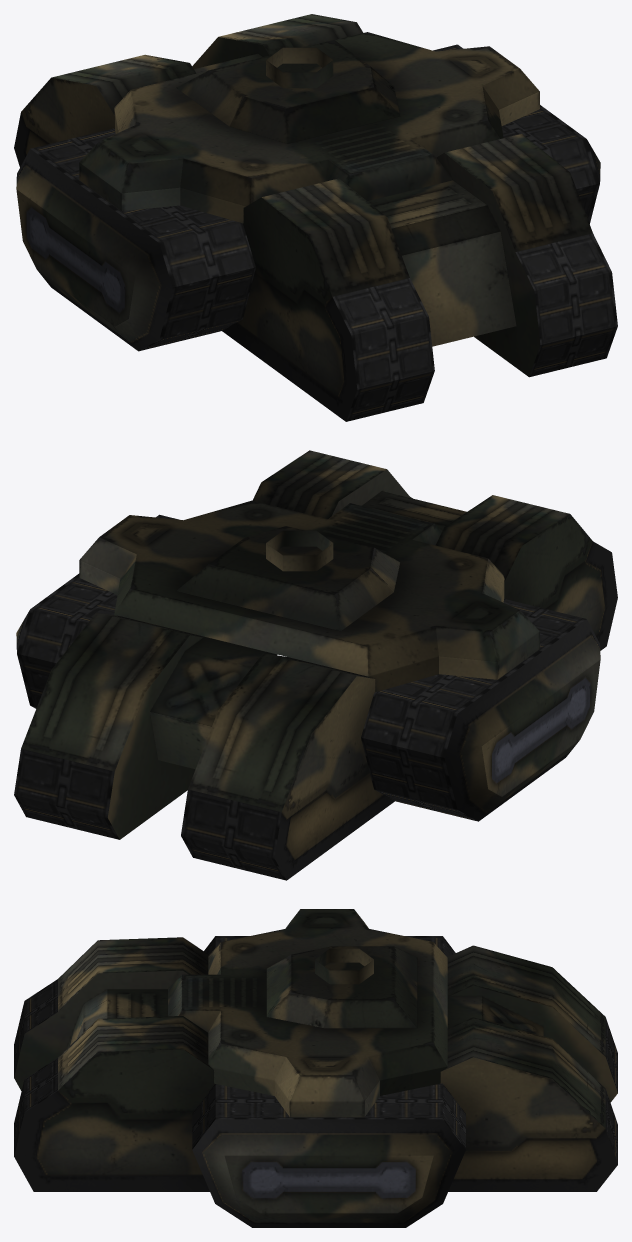
Rendered from Mech02_Leg.FBX.
3 views of the same model, one above another, from view 1: azimuth 30°, elevation 25°; view 2: azimuth 150°, elevation 25°; view 3: azimuth 270°, elevation 25° (orthographic). The views are drawn at different scales.
Parts seen in each view (by area): view 1: Leg, foot; view 2: Leg, foot; view 3: Leg, foot.
Part boxes in pixels (box(x1,y1,x2,y2)): Leg: box(14, 14, 600, 421); foot: box(30, 44, 617, 421); Leg: box(16, 450, 617, 880); foot: box(14, 514, 586, 880); Leg: box(14, 909, 617, 1227); foot: box(14, 936, 617, 1163).
Size of the model in its own units: 1780 by 735 by 2275.
